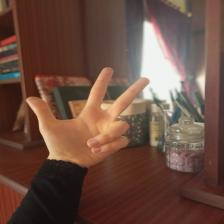three: (16, 63, 158, 172)
